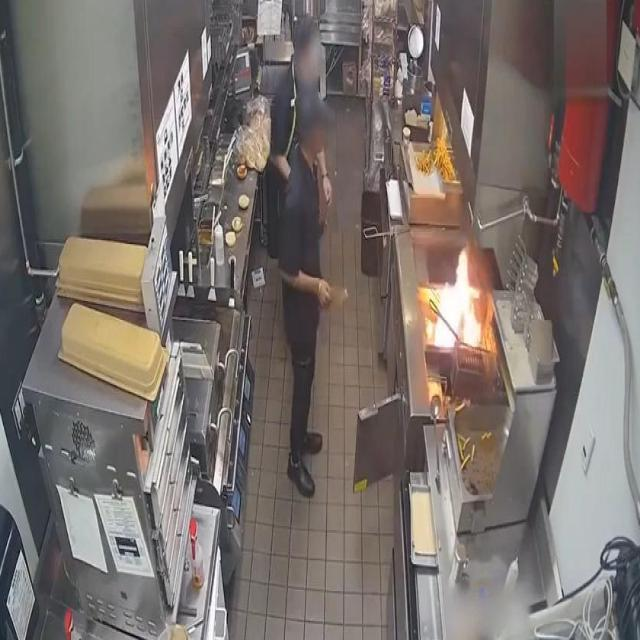smoke: (426, 241, 491, 350)
